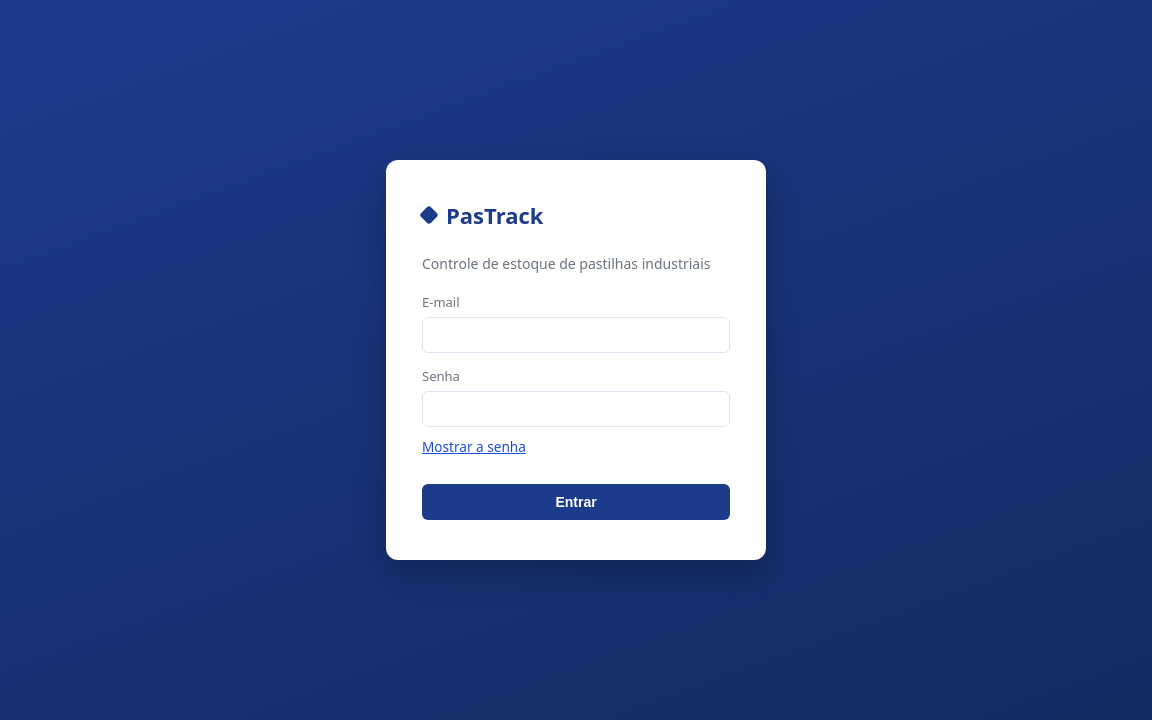
it: revelar a senha no login › mostra e esconde a senha digitada
Type "SenhaForte123" into the password field labelled "Senha".
click(576, 409); type("SenhaForte123")  # box left=422, top=391, right=730, bottom=427
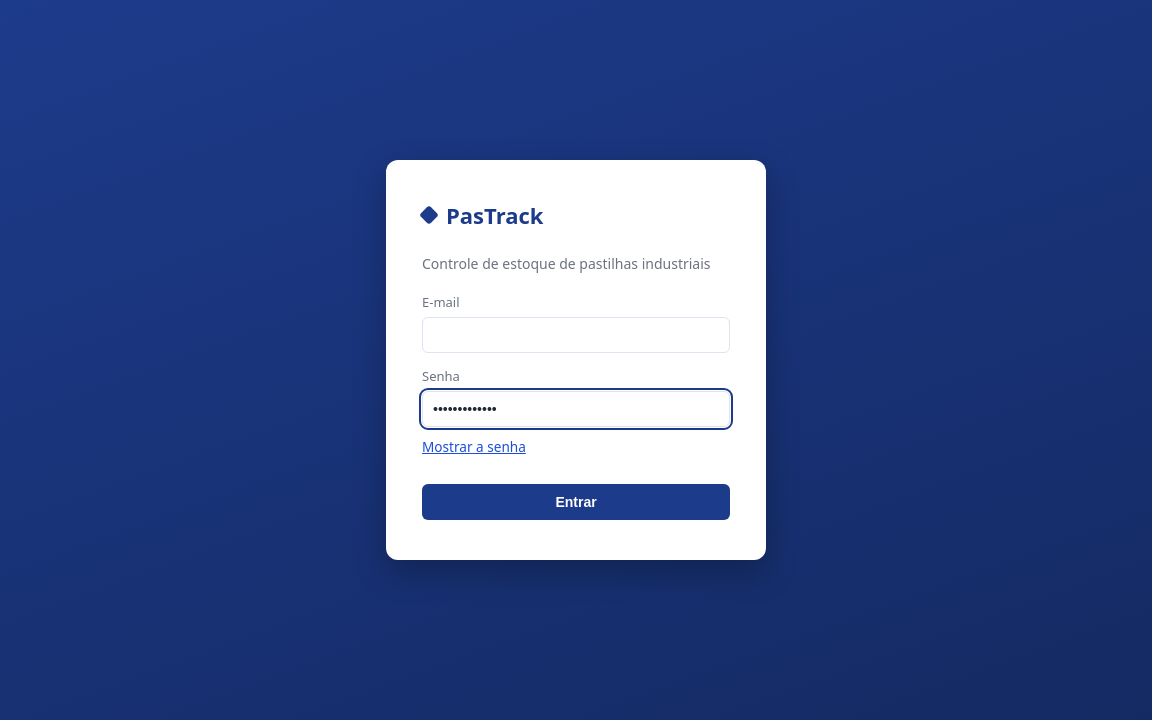
Click the button "Mostrar a senha".
click(474, 446)  # box left=422, top=433, right=526, bottom=460
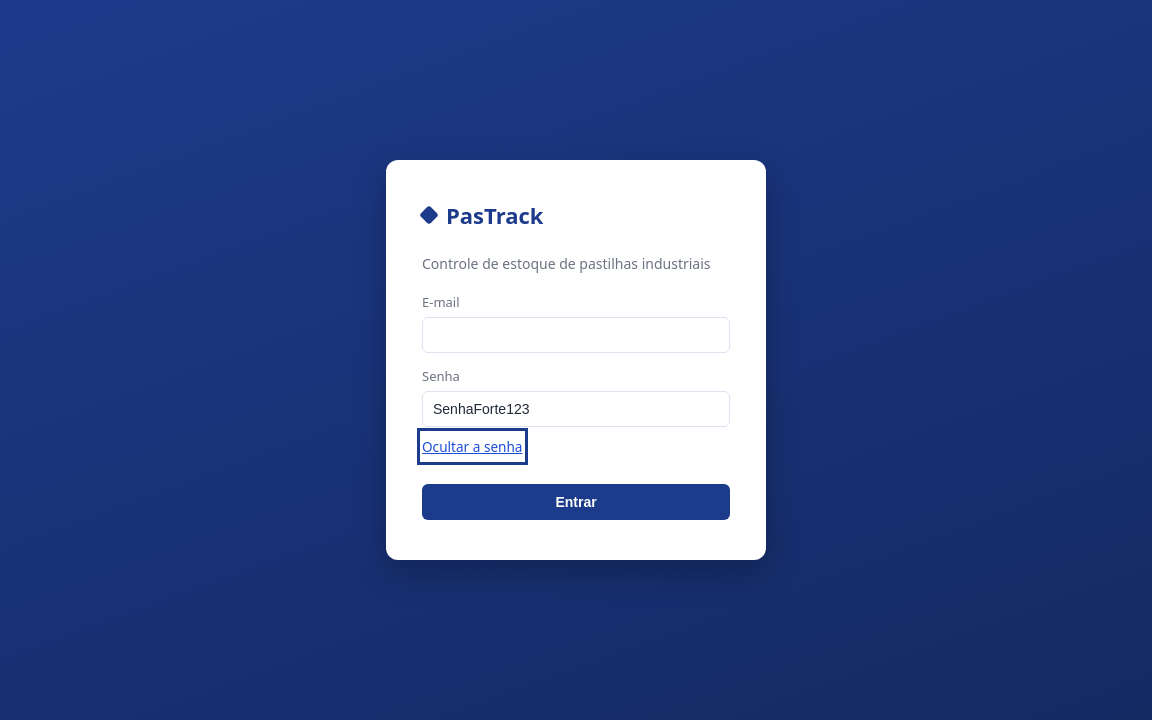
Now the field labelled "Senha" shows its text, box left=422, top=391, right=730, bottom=427
Click the button "Ocultar a senha".
click(472, 446)  # box left=422, top=433, right=522, bottom=460
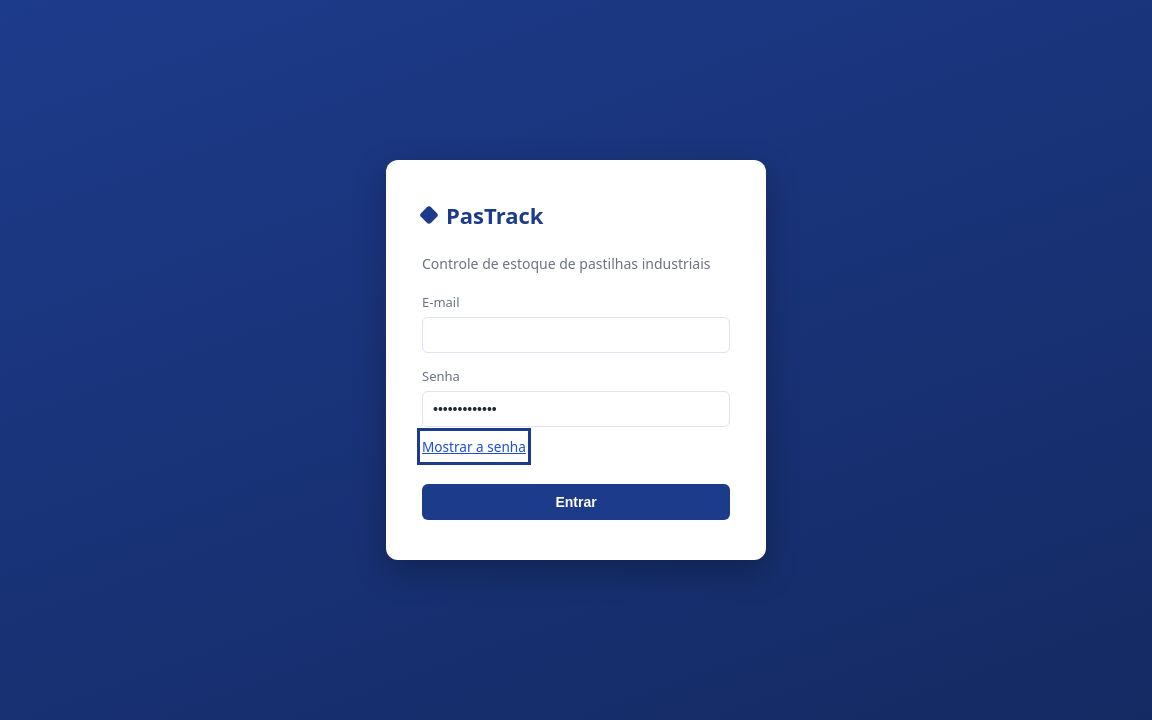
Now the password field labelled "Senha" hides its text, box left=422, top=391, right=730, bottom=427
